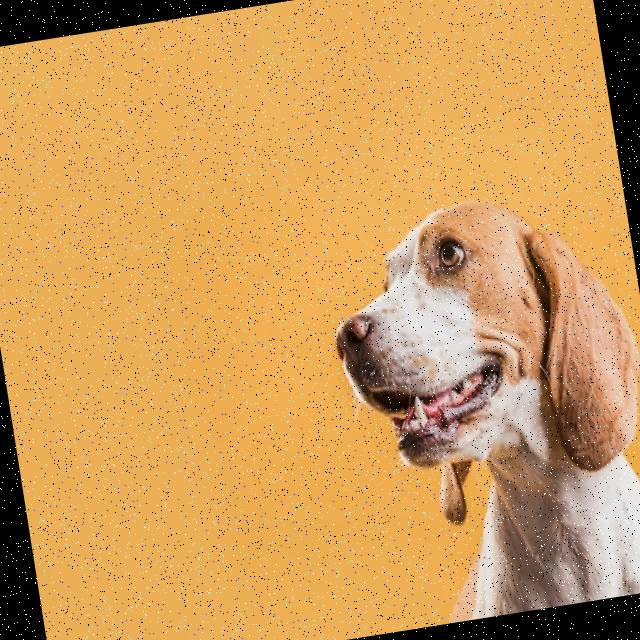Dog: (317, 177, 640, 634)
